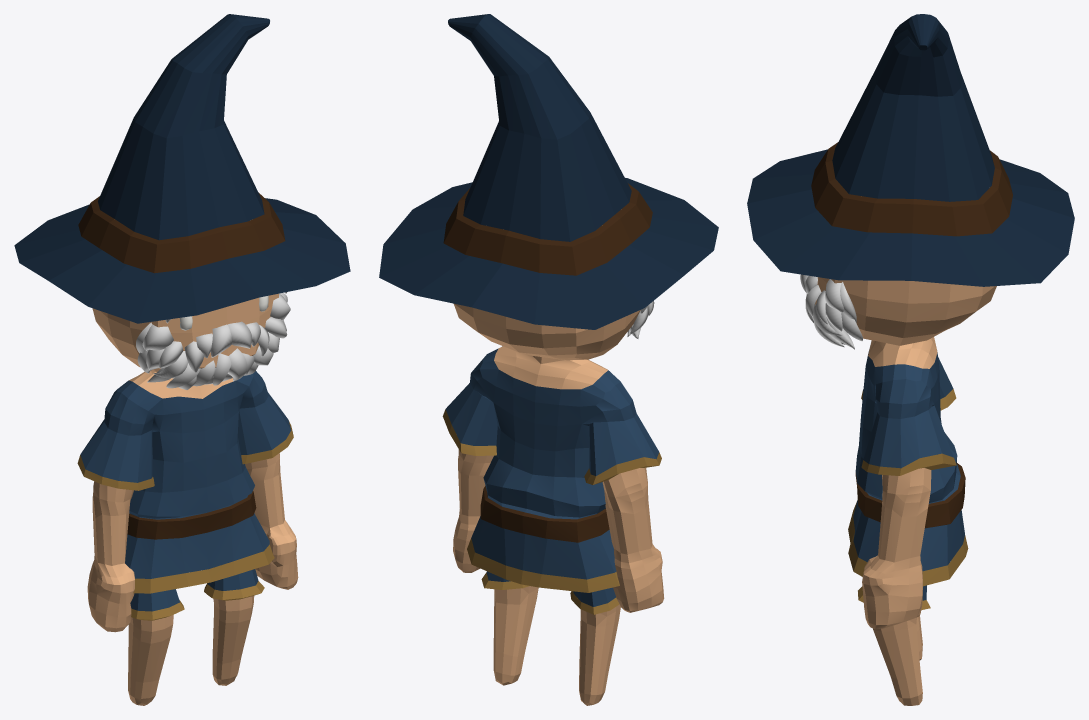
The model's file is debout-wizard.glb.
3 renders of one model, left to right at view 1: azimuth 30°, elevation 25°; view 2: azimuth 150°, elevation 25°; view 3: azimuth 270°, elevation 25°, orthographic. The views are drawn at different scales.
Parts seen in each view (by area): view 1: Cube004_4, Cube004_1, Cube004, Cube004_2, Cube004_5, Cube004_3; view 2: Cube004_4, Cube004_1, Cube004, Cube004_2, Cube004_3; view 3: Cube004_4, Cube004, Cube004_1, Cube004_2, Cube004_5, Cube004_3.
Boxes of the visible parts, x1,y1,x2,y2 form: Cube004_4: (14,14,350,323); Cube004_1: (80,371,291,611); Cube004: (87,293,298,705); Cube004_2: (78,192,285,539); Cube004_5: (136,292,290,389); Cube004_3: (77,420,293,620); Cube004_4: (379,14,718,329); Cube004_1: (445,346,659,606); Cube004: (453,303,664,705); Cube004_2: (443,183,652,542); Cube004_3: (442,409,661,614); Cube004_4: (747,14,1074,286); Cube004: (815,277,996,705); Cube004_1: (853,349,964,600); Cube004_2: (811,142,1012,528); Cube004_5: (800,274,862,349); Cube004_3: (848,389,968,610).
Bounding box in the file's own units: 0.7391 × 1.74 × 0.7381.
